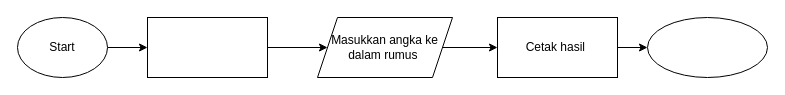
This 785x95 diagram has some shape labels left out. Here are the shapes that lost their labels. From the top down, the centre of each, then its label:
(207,47): Rumus menghitung luas permukaan dadu (6 x sisi x sisi)
(707,47): End
